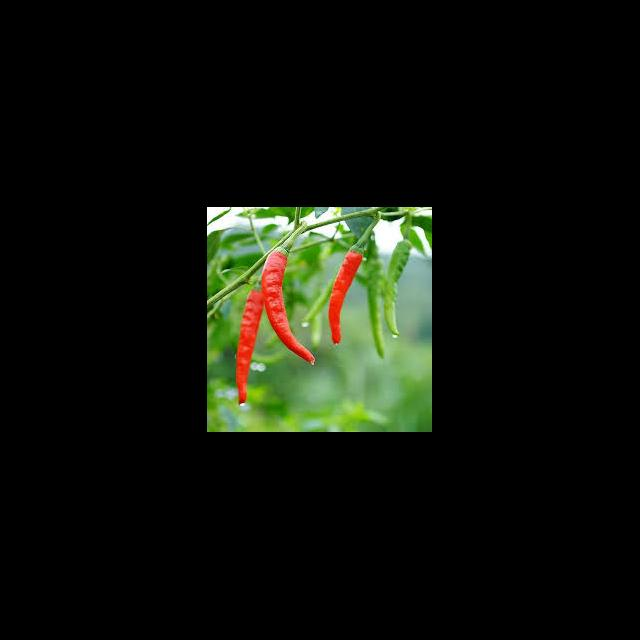chili_pepper: (264, 250, 317, 366), (328, 252, 364, 346), (236, 290, 264, 405)
